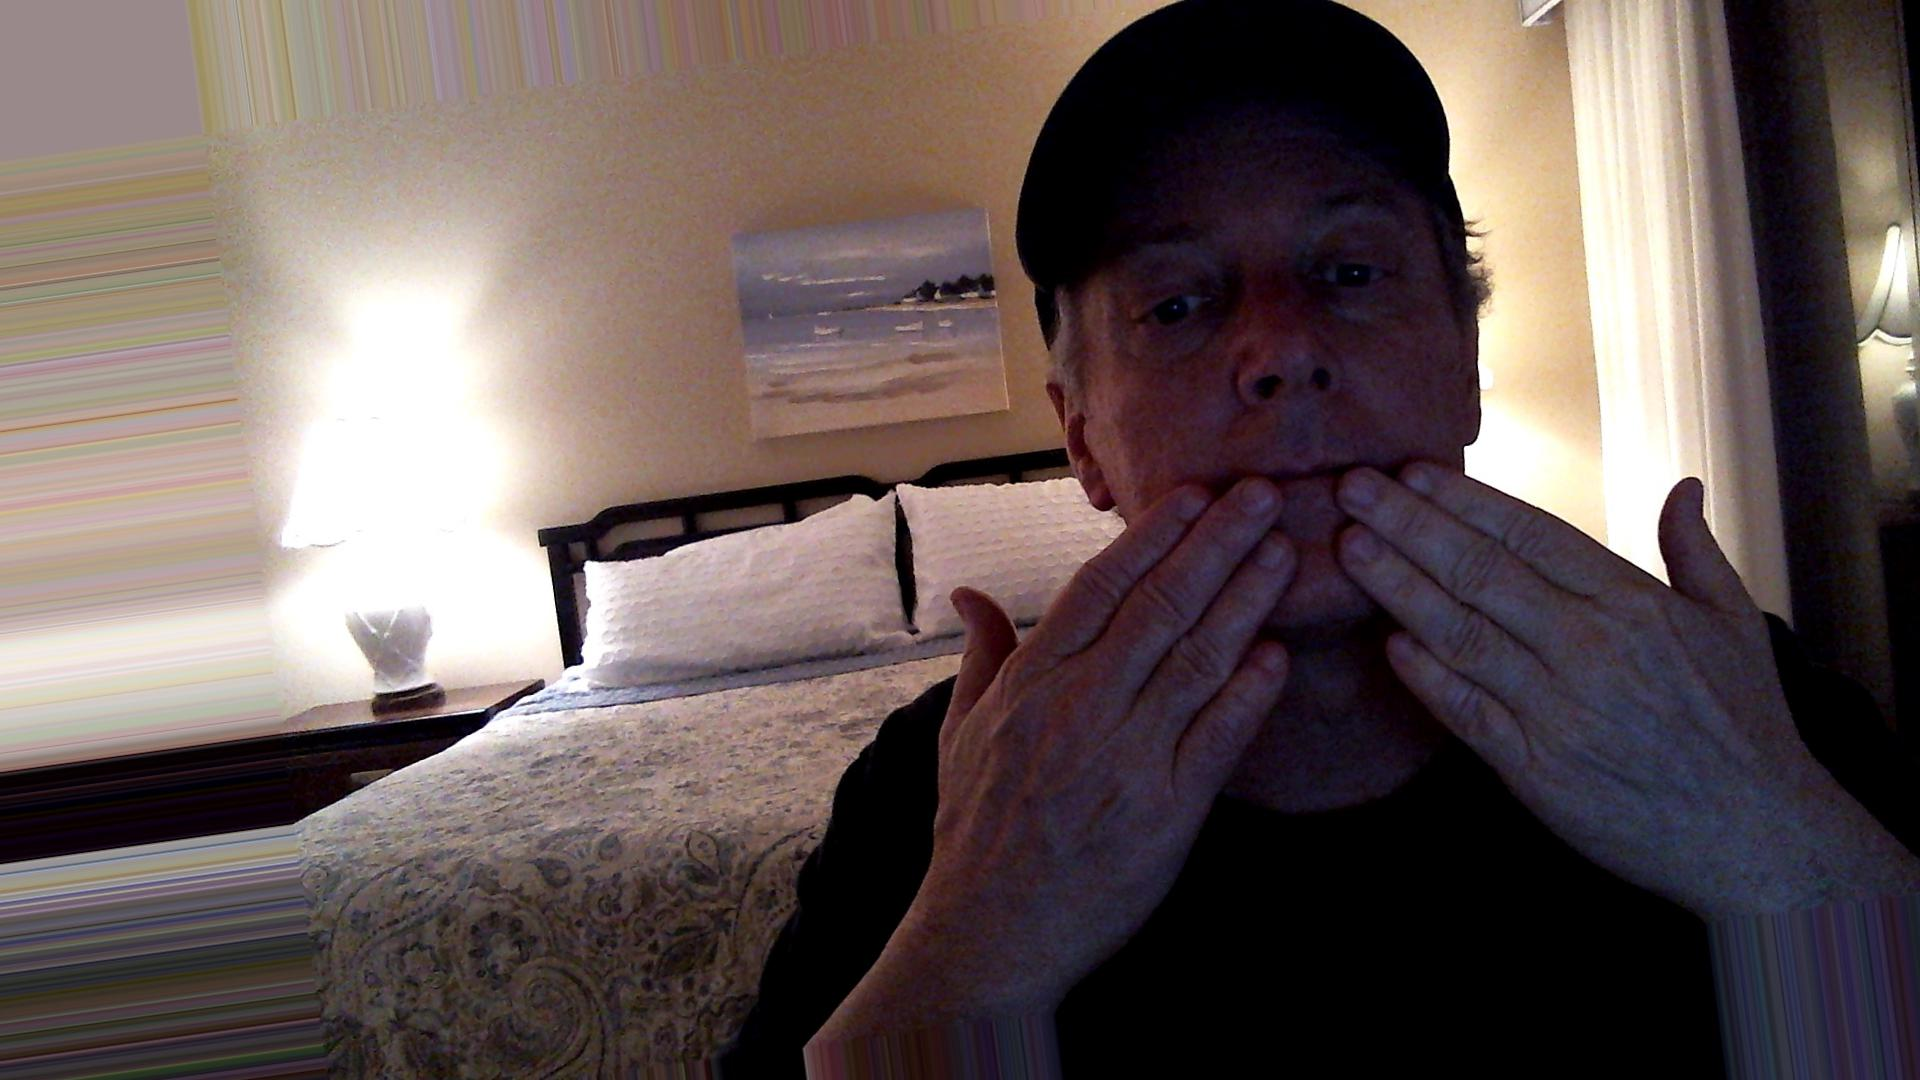Thank You: (902, 444, 1822, 872)
